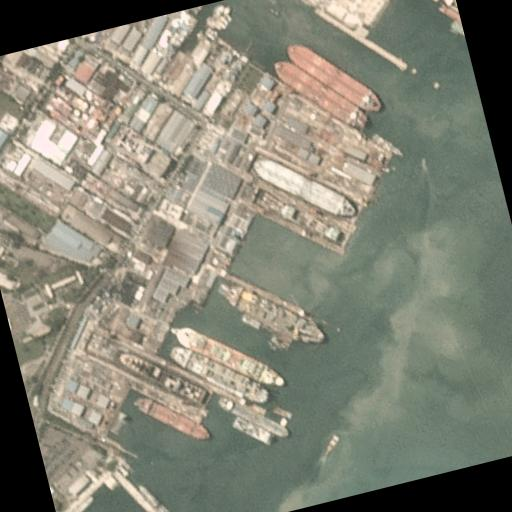ship: (216, 261, 330, 364), (174, 308, 284, 408), (252, 138, 358, 234), (274, 43, 372, 145), (169, 328, 274, 422), (285, 28, 383, 126), (118, 337, 208, 419), (134, 383, 212, 455), (217, 384, 291, 450)
